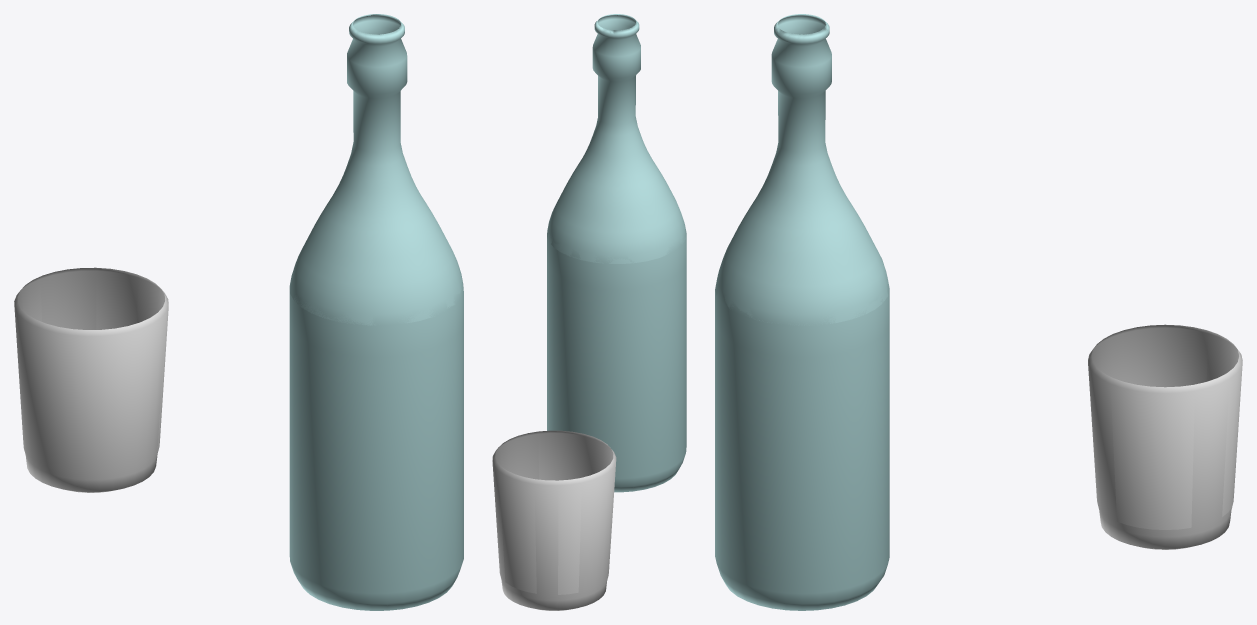
The model's file is glas_material.fbx.
3 renders of one model, left to right at view 1: azimuth 30°, elevation 25°; view 2: azimuth 150°, elevation 25°; view 3: azimuth 270°, elevation 25°, orthographic. The views are drawn at different scales.
Parts seen in each view (by area): view 1: Circle.001, Circle; view 2: Circle.001, Circle; view 3: Circle.001, Circle.
Part boxes in pixels (left/top/right/bottom): Circle.001: left=289, top=14, right=463, bottom=610; Circle: left=14, top=267, right=168, bottom=492; Circle.001: left=547, top=14, right=686, bottom=492; Circle: left=492, top=430, right=616, bottom=610; Circle.001: left=715, top=14, right=889, bottom=610; Circle: left=1088, top=324, right=1242, bottom=549.
Bounding box in the file's own units: 430 × 924 × 797.
